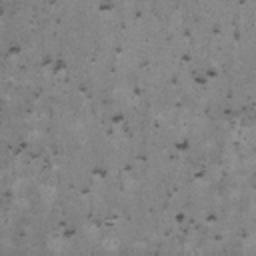Oxide scale of temperature system: (0, 4, 250, 241), (180, 0, 244, 84), (224, 106, 248, 115)
